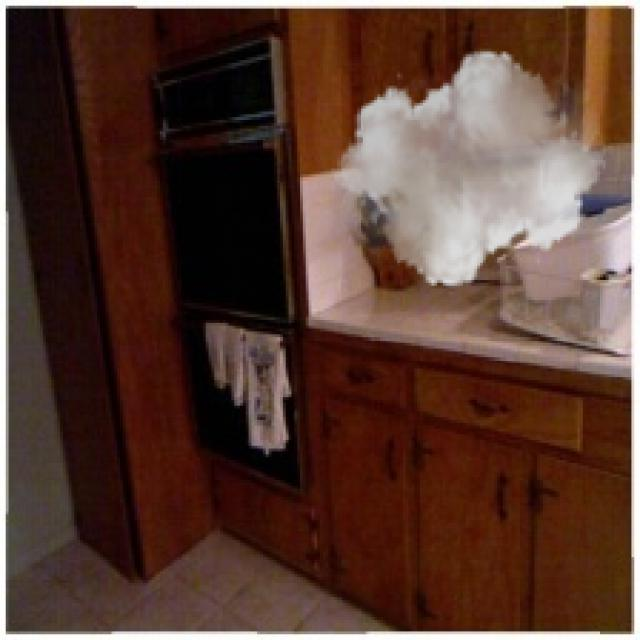smoke: (331, 40, 606, 297)
